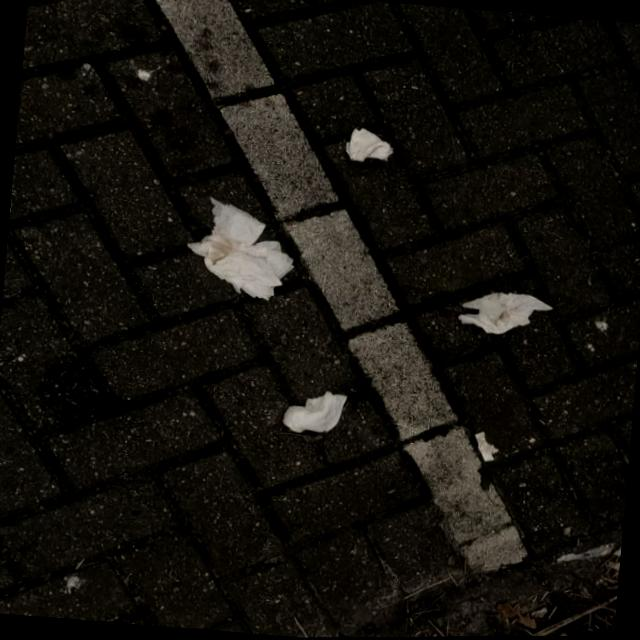Paper: (180, 193, 302, 305), (450, 285, 552, 341), (278, 387, 349, 437), (340, 126, 396, 165)
